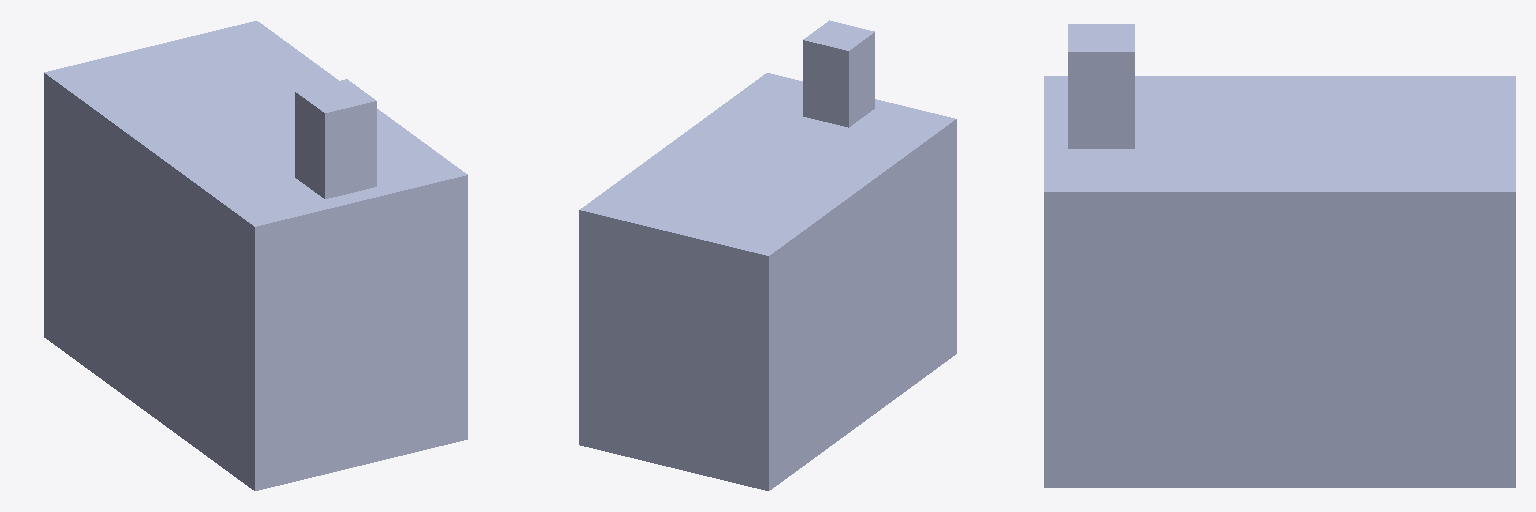
robot.urdf — UR5_table:
<?xml version="1.0" encoding="utf-8"?>
<!-- This URDF was automatically created by SolidWorks to URDF Exporter! Originally created by [author] ([email redacted]) 
     Commit Version: 1.5.1-0-g916b5db  Build Version: 1.5.7152.31018
     For more information, please see http://wiki.ros.org/sw_urdf_exporter -->
<robot
  name="UR5_table">
  <link
    name="UR5_table">
    <inertial>
      <origin
        xyz="9.9019E-17 0.59496 0.00608739999999996"
        rpy="0 0 0" />
      <mass
        value="100" />
      <inertia
        ixx="127.69"
        ixy="-5.6583E-15"
        ixz="-4.5923E-15"
        iyy="70.895"
        iyz="-1.9311"
        izz="113.77" />
    </inertial>
    <visual>
      <origin
        xyz="0 0 0"
        rpy="1.5707963267949 0 0" />
      <geometry>
        <mesh
          filename="package://ur_description/meshes/cabinet/UR5_table.STL" />
      </geometry>
      <material
        name="">
        <color
          rgba="0.79216 0.81961 0.93333 1" />
        <texture
          filename="package://ur_description/textures/" />
      </material>
    </visual>
    <collision>
      <origin
        xyz="0 0 0"
        rpy="1.5707963267949 0 0" />
      <geometry>
        <mesh
          filename="package://ur_description/meshes/cabinet/UR5_table.STL" />
      </geometry>
    </collision>
  </link>
</robot>

--- Render facts (derived) ---
The picture shows the robot from 3 angles, left to right: view 1: azimuth 30°, elevation 25°; view 2: azimuth 150°, elevation 25°; view 3: azimuth 270°, elevation 25°; orthographic projection.
Model UR5_table with 1 links and 0 joints (none), rooted at UR5_table, posed every joint at zero.
Links seen in each view (by area): view 1: UR5_table; view 2: UR5_table; view 3: UR5_table.
Link boxes in pixels (x1,y1,x2,y2): UR5_table: (44,21,467,490); UR5_table: (579,20,956,490); UR5_table: (1044,24,1515,487).
Size in the robot's own frame: 0.7 by 1.2 by 1.1 metres.
1 mesh visuals loaded from 1 distinct referenced files (1 binary STL).
